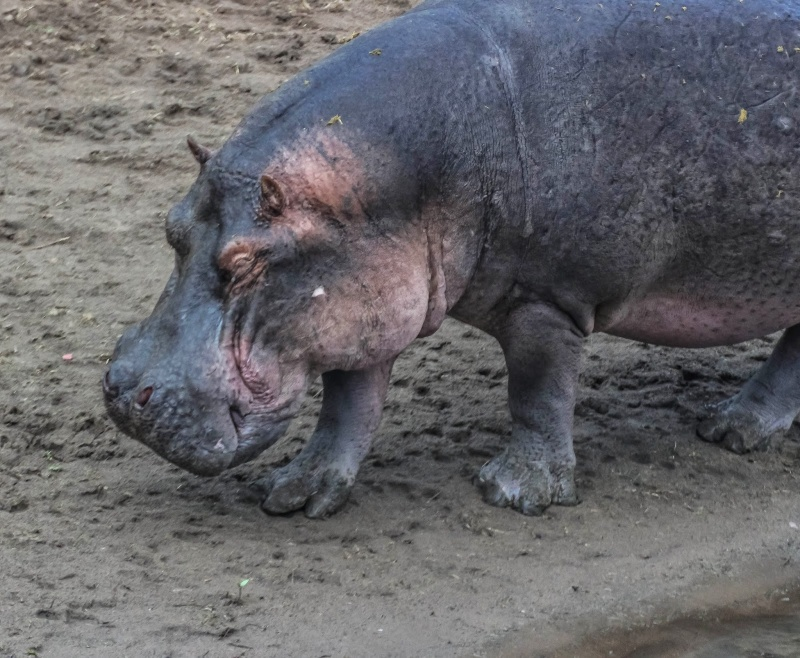hipopotamo: (103, 0, 800, 518)
